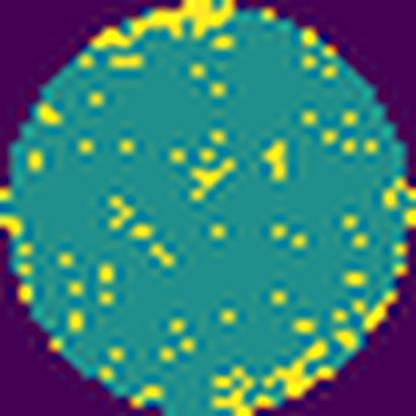Edge-Loc: (89, 0, 240, 52), (260, 338, 343, 400), (208, 359, 255, 416)
